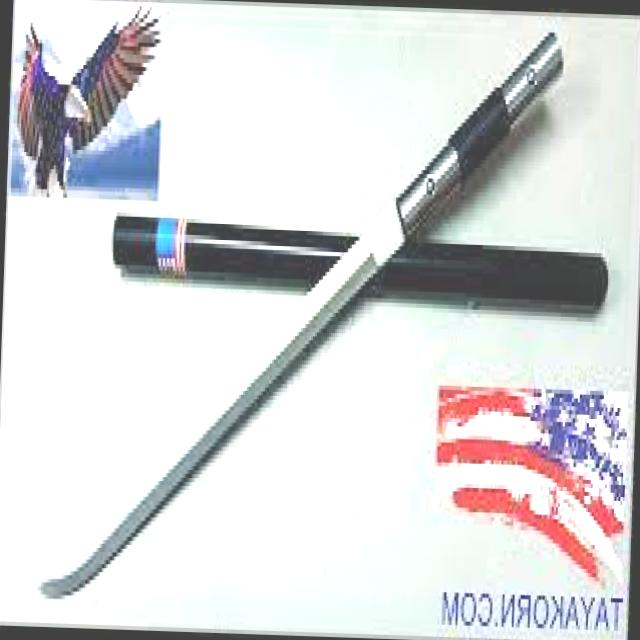long sword: (37, 12, 568, 624)
